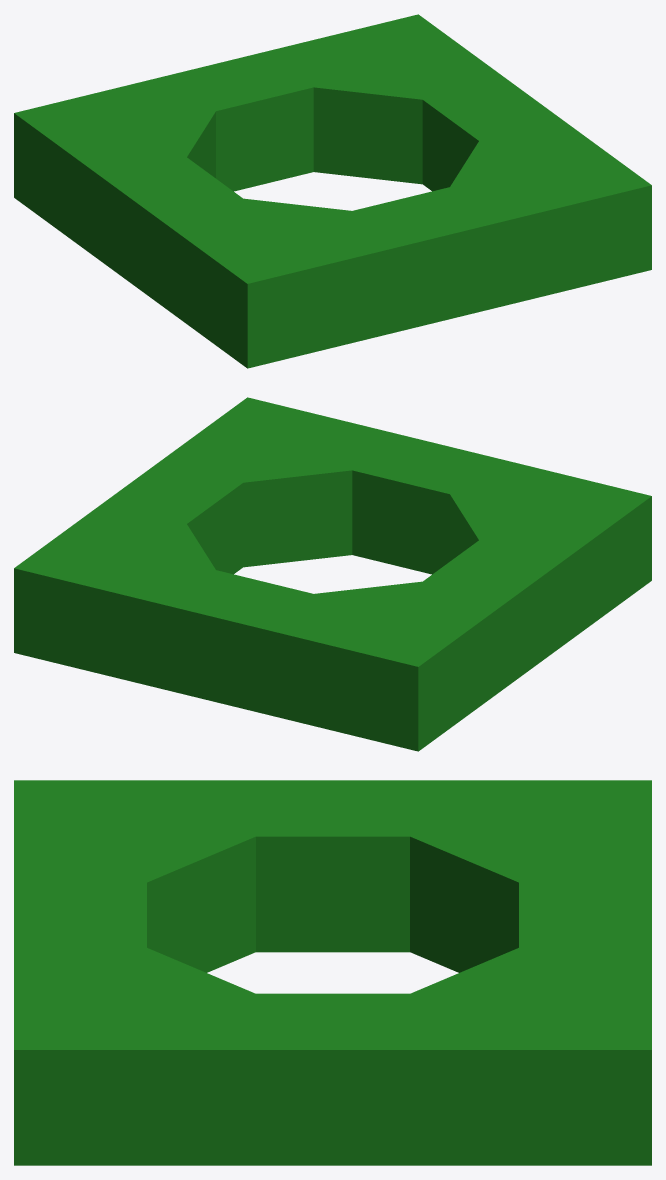
The model's file is Prop_Well_Grass.obj.
The picture shows the model from 3 angles, top to bottom: view 1: azimuth 30°, elevation 25°; view 2: azimuth 150°, elevation 25°; view 3: azimuth 270°, elevation 25°; orthographic projection. The views are drawn at different scales.
Parts seen in each view (by area): view 1: object1; view 2: object1; view 3: object1.
Part boxes in pixels (x1,y1,x2,y2): object1: (14, 14, 651, 368); object1: (14, 397, 651, 751); object1: (14, 780, 651, 1165).
Bounding box in the file's own units: 1 × 0.2 × 1.
